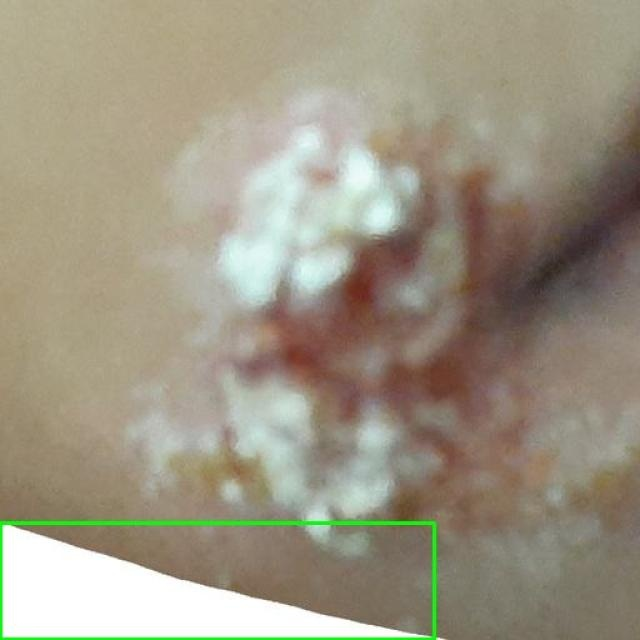Eczema: (0, 522, 434, 639)
